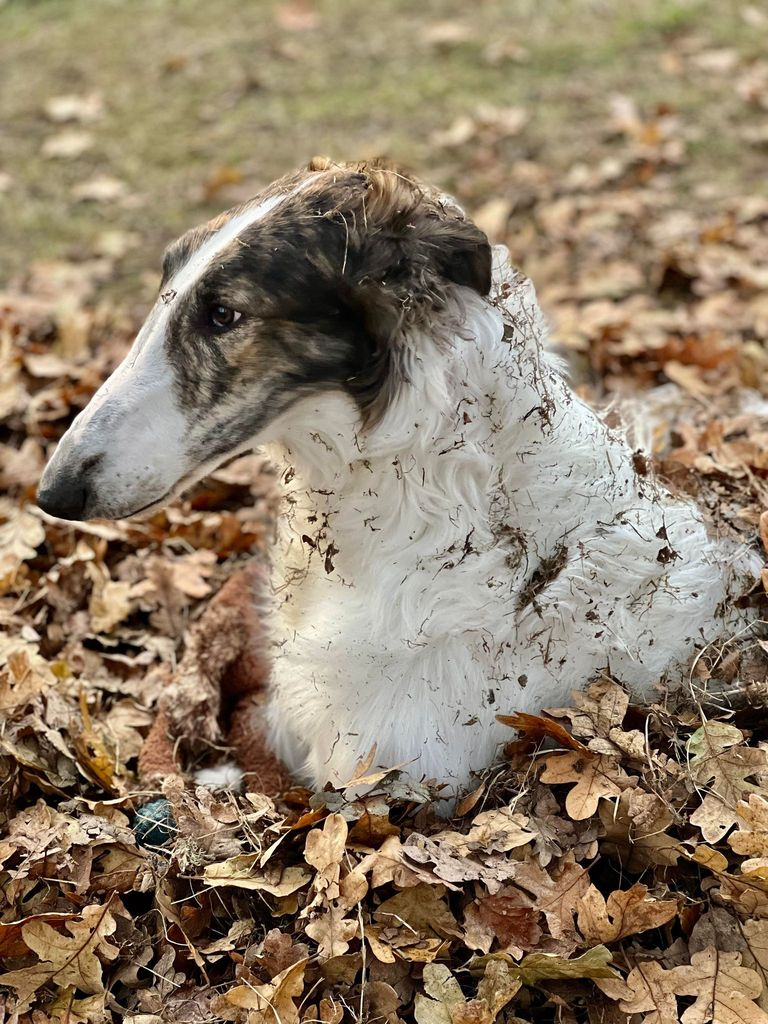borzoi: (39, 108, 714, 812)
